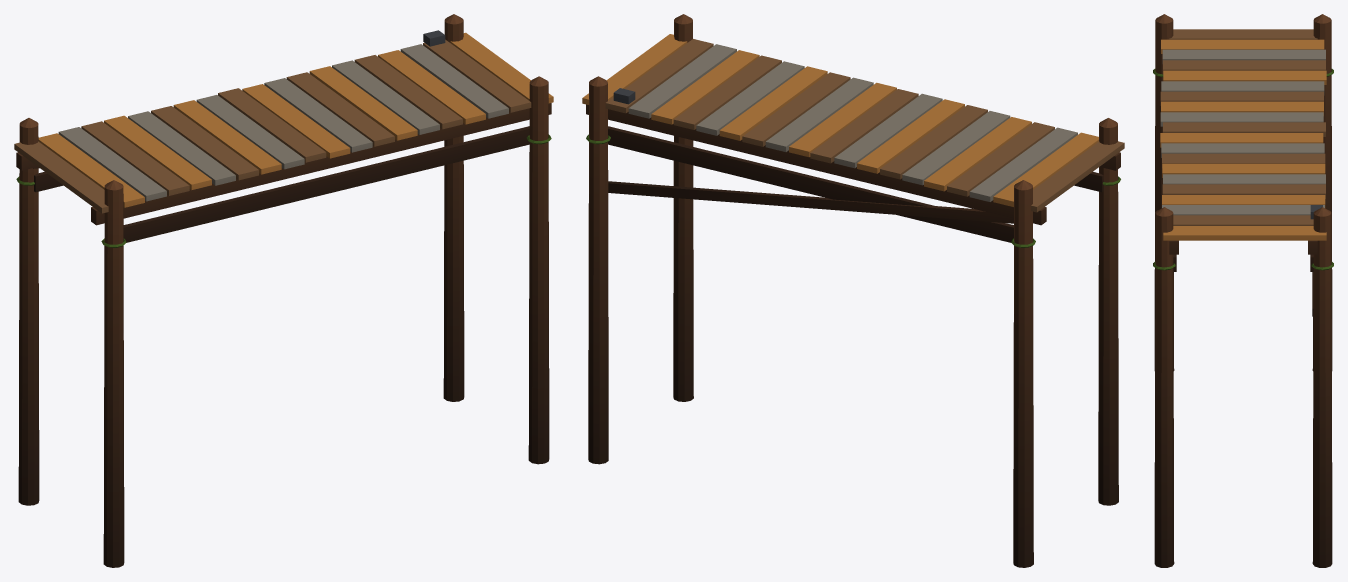
File: Pier.fbx
The picture shows the model from 3 angles, left to right: view 1: azimuth 30°, elevation 25°; view 2: azimuth 150°, elevation 25°; view 3: azimuth 270°, elevation 25°; orthographic projection. The views are drawn at different scales.
Visible parts, largest first — view 1: Pier_LOD0; view 2: Pier_LOD0; view 3: Pier_LOD0.
Boxes of the visible parts, x1,y1,x2,y2 form: Pier_LOD0: (14, 14, 553, 567); Pier_LOD0: (582, 14, 1124, 567); Pier_LOD0: (1153, 14, 1333, 567).
Size of what is drawn, in the model's own units: 6 by 4.83 by 2.22.
Materials: 1 (1 with a texture image).
